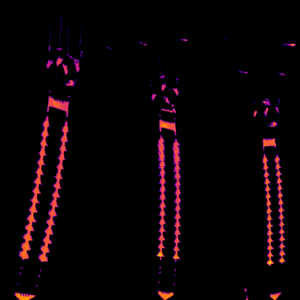insulator: (15, 113, 70, 263), (261, 151, 288, 265), (170, 131, 182, 265), (155, 132, 165, 258)
